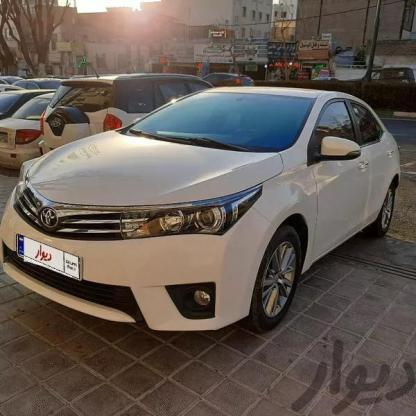Car: (1, 96, 405, 348), (31, 68, 202, 150), (0, 83, 50, 160), (356, 60, 416, 86), (199, 74, 263, 88)
